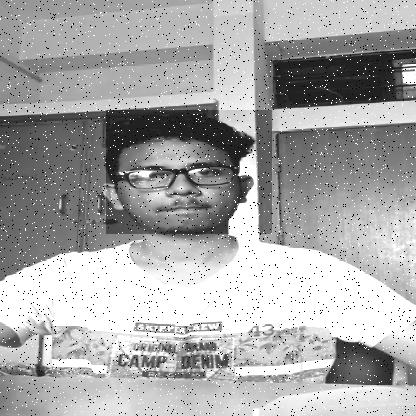Normal: (106, 110, 272, 234)
